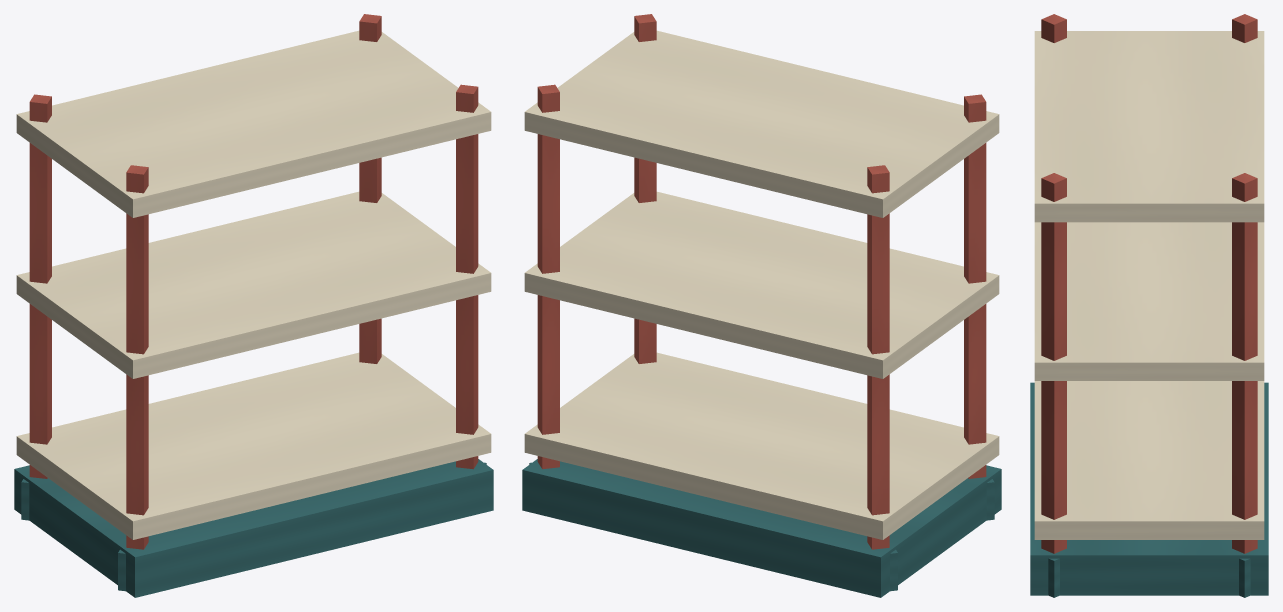
File: atlas100-s031-a06.lod2.glb
The picture shows the model from 3 angles, left to right: view 1: azimuth 30°, elevation 25°; view 2: azimuth 150°, elevation 25°; view 3: azimuth 270°, elevation 25°; orthographic projection.
Visible parts, largest first — view 1: atlas100-s031-a06:part-013, atlas100-s031-a06:part-012, atlas100-s031-a06:part-011, atlas100-s031-a06:part-000, atlas100-s031-a06:part-005, atlas100-s031-a06:part-009, atlas100-s031-a06:part-003, atlas100-s031-a06:part-007; view 2: atlas100-s031-a06:part-013, atlas100-s031-a06:part-012, atlas100-s031-a06:part-011, atlas100-s031-a06:part-000, atlas100-s031-a06:part-003, atlas100-s031-a06:part-007, atlas100-s031-a06:part-005, atlas100-s031-a06:part-009; view 3: atlas100-s031-a06:part-013, atlas100-s031-a06:part-011, atlas100-s031-a06:part-012, atlas100-s031-a06:part-000, atlas100-s031-a06:part-007, atlas100-s031-a06:part-009, atlas100-s031-a06:part-003, atlas100-s031-a06:part-005, atlas100-s031-a06:part-008, atlas100-s031-a06:part-010.
Part boxes in pixels (bbox=[...]): atlas100-s031-a06:part-013: bbox=[16, 30, 491, 217]; atlas100-s031-a06:part-012: bbox=[16, 191, 491, 378]; atlas100-s031-a06:part-011: bbox=[16, 352, 491, 539]; atlas100-s031-a06:part-000: bbox=[14, 459, 493, 597]; atlas100-s031-a06:part-005: bbox=[126, 165, 148, 549]; atlas100-s031-a06:part-009: bbox=[456, 84, 478, 469]; atlas100-s031-a06:part-003: bbox=[29, 94, 51, 478]; atlas100-s031-a06:part-007: bbox=[359, 14, 381, 363]; atlas100-s031-a06:part-013: bbox=[524, 30, 999, 217]; atlas100-s031-a06:part-012: bbox=[524, 191, 999, 378]; atlas100-s031-a06:part-011: bbox=[524, 352, 999, 539]; atlas100-s031-a06:part-000: bbox=[522, 459, 1001, 597]; atlas100-s031-a06:part-003: bbox=[867, 165, 889, 549]; atlas100-s031-a06:part-007: bbox=[537, 84, 559, 469]; atlas100-s031-a06:part-005: bbox=[964, 94, 986, 478]; atlas100-s031-a06:part-009: bbox=[634, 14, 656, 363]; atlas100-s031-a06:part-013: bbox=[1034, 31, 1264, 222]; atlas100-s031-a06:part-011: bbox=[1034, 381, 1264, 539]; atlas100-s031-a06:part-012: bbox=[1034, 222, 1264, 380]; atlas100-s031-a06:part-000: bbox=[1030, 382, 1268, 595]; atlas100-s031-a06:part-007: bbox=[1232, 173, 1257, 553]; atlas100-s031-a06:part-009: bbox=[1041, 173, 1066, 553]; atlas100-s031-a06:part-003: bbox=[1232, 14, 1257, 42]; atlas100-s031-a06:part-005: bbox=[1041, 14, 1066, 42]; atlas100-s031-a06:part-008: bbox=[1239, 558, 1250, 597]; atlas100-s031-a06:part-010: bbox=[1048, 558, 1059, 597].
Size of the model in its own units: 2.47 by 2.66 by 1.4.
Materials: 3 (3 with a texture image).
